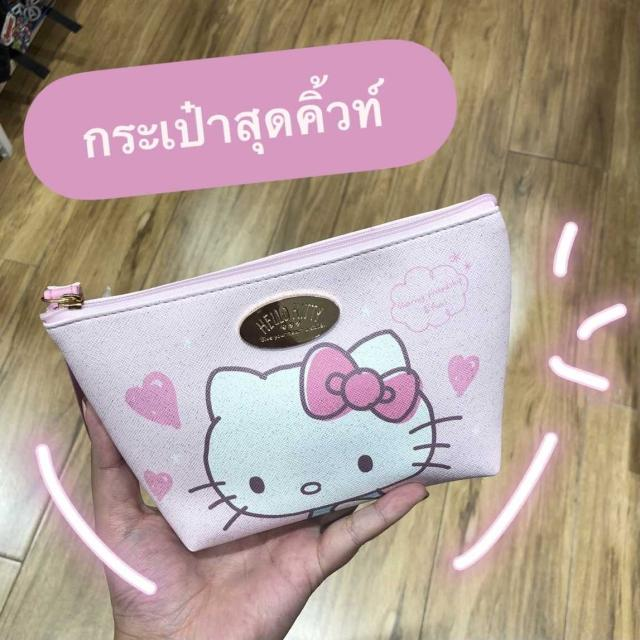handbag: (20, 195, 536, 562)
